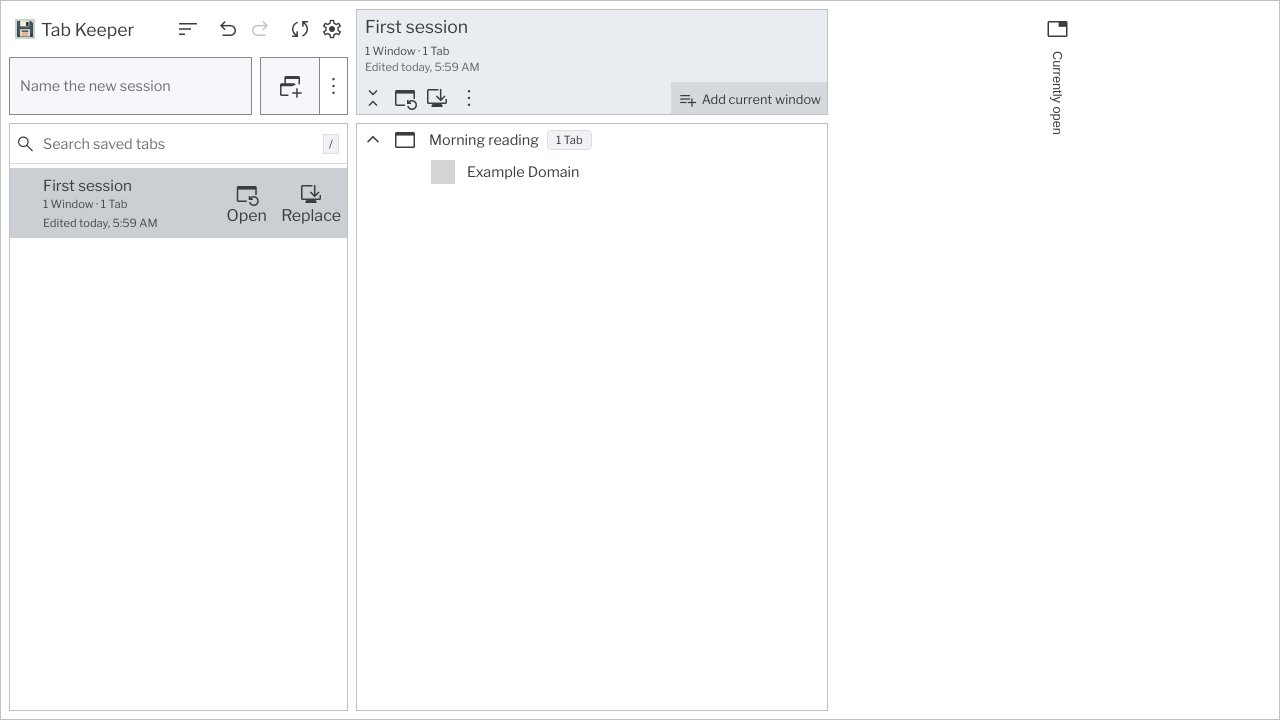
Test case: / focuses the search (O14b) › the text survives closing and reopening the drawer
Click the button with aria-label "Currently open, 3 Tabs" at (1058, 76), box x1=1038 y1=9 x2=1078 y2=143
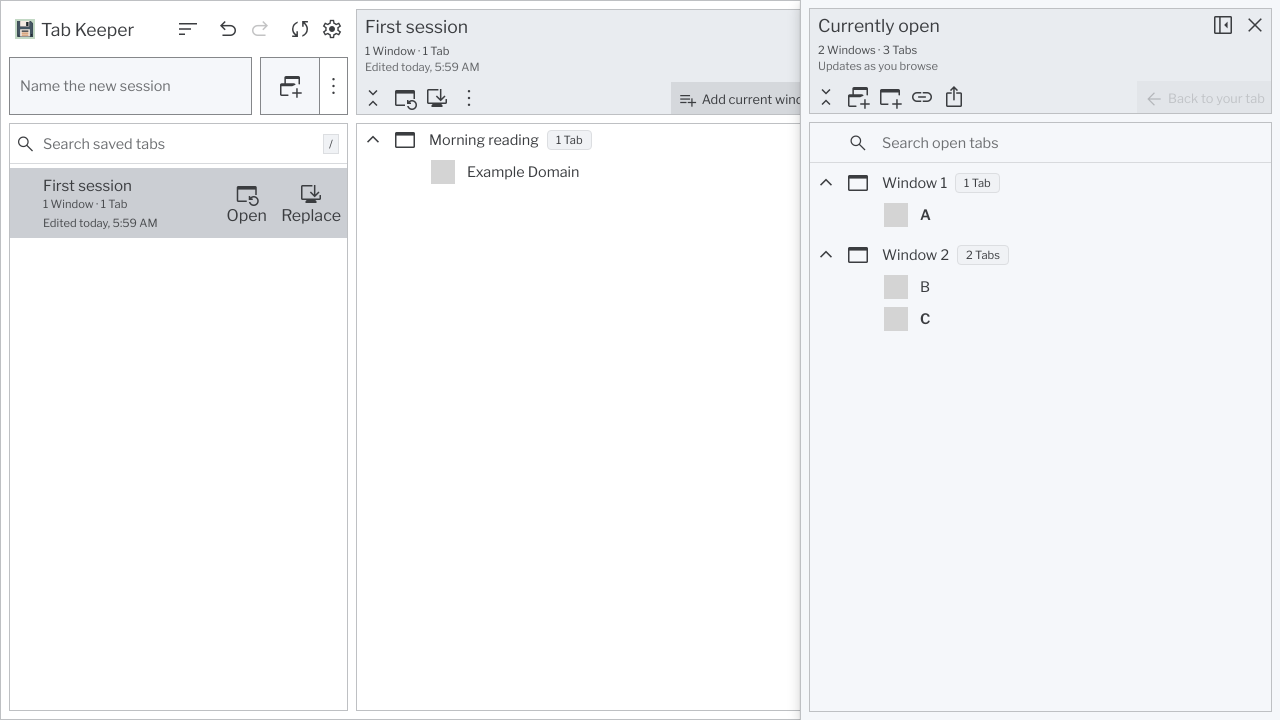
Type "b" into the field labelled "Search open tabs" at (1056, 142), box x1=874 y1=123 x2=1239 y2=162
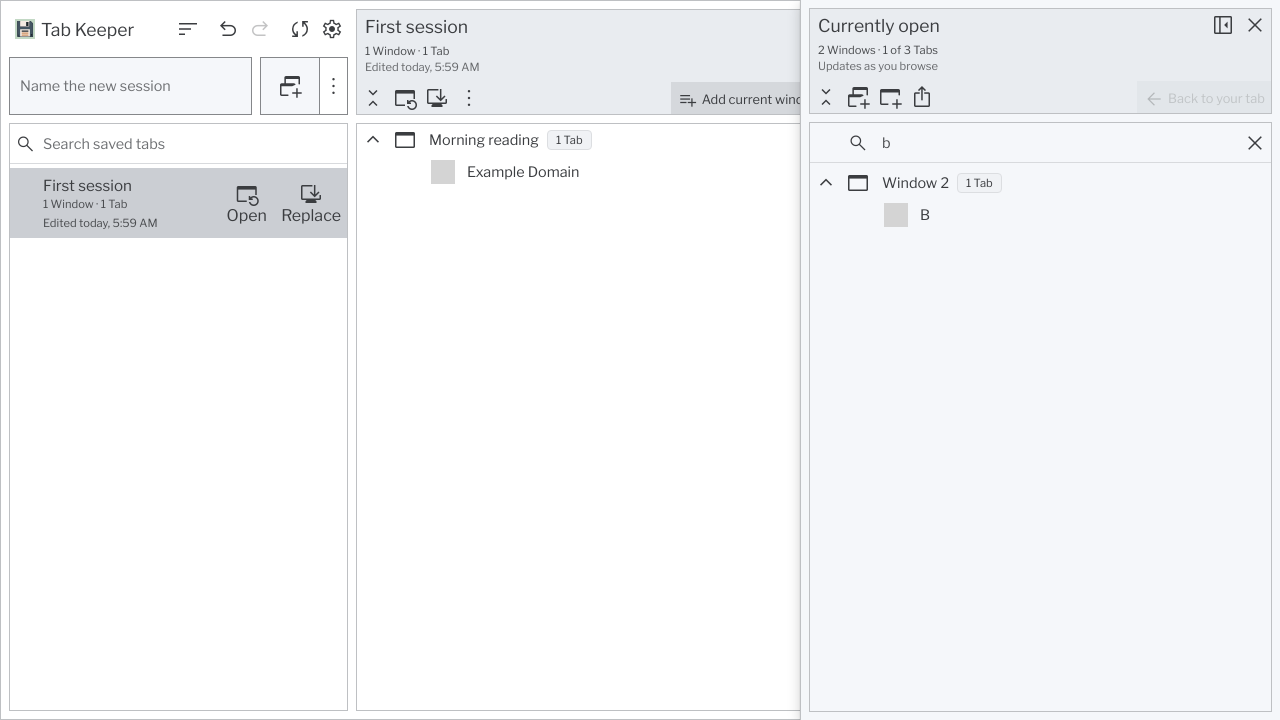
Click the button named "Close the Currently open panel" at (1255, 25), box x1=1243 y1=11 x2=1267 y2=39
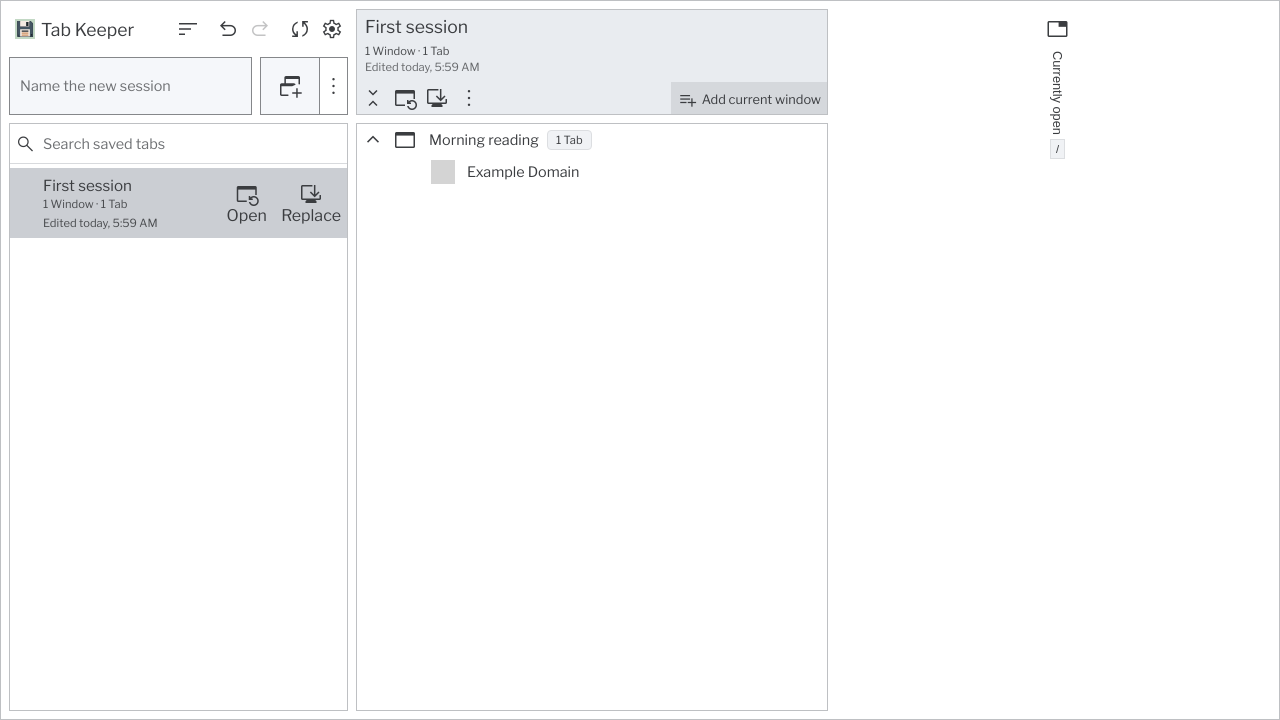
Click the button with aria-label "Currently open, 3 Tabs" at (1058, 86), box x1=1038 y1=9 x2=1078 y2=163
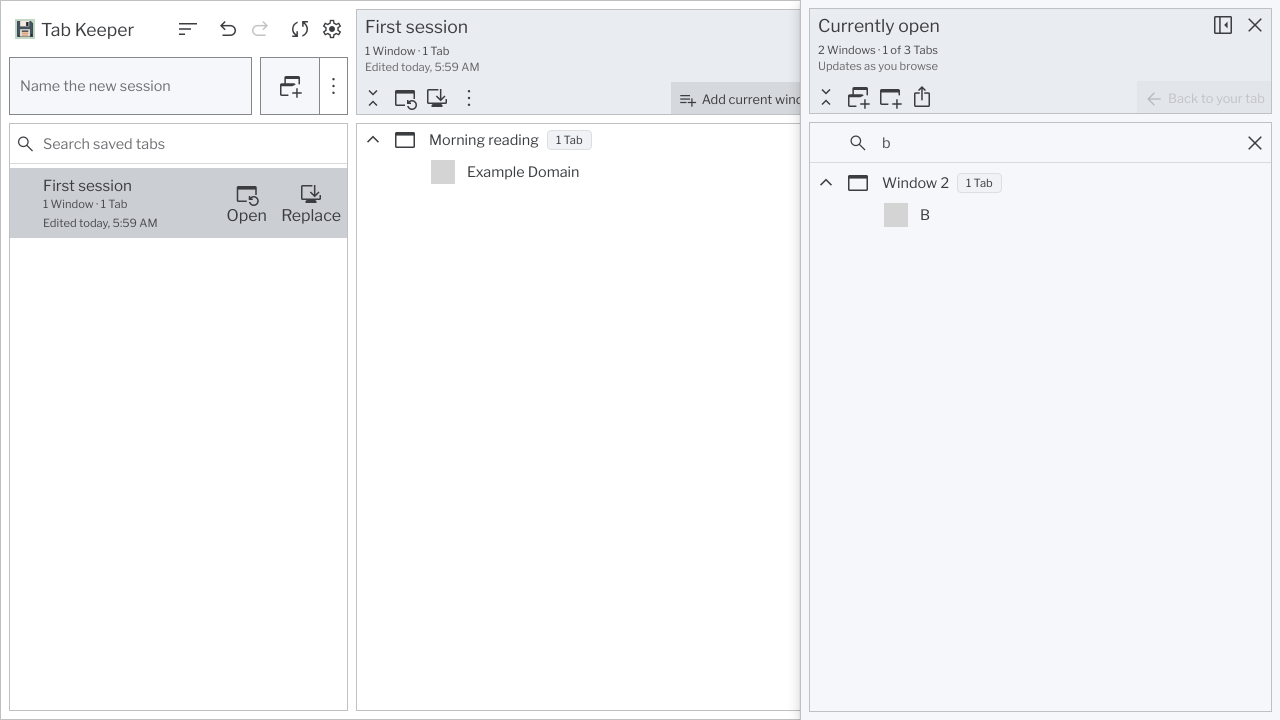
Expected: the field named "Search open tabs" holds "b", x1=874 y1=123 x2=1239 y2=162
